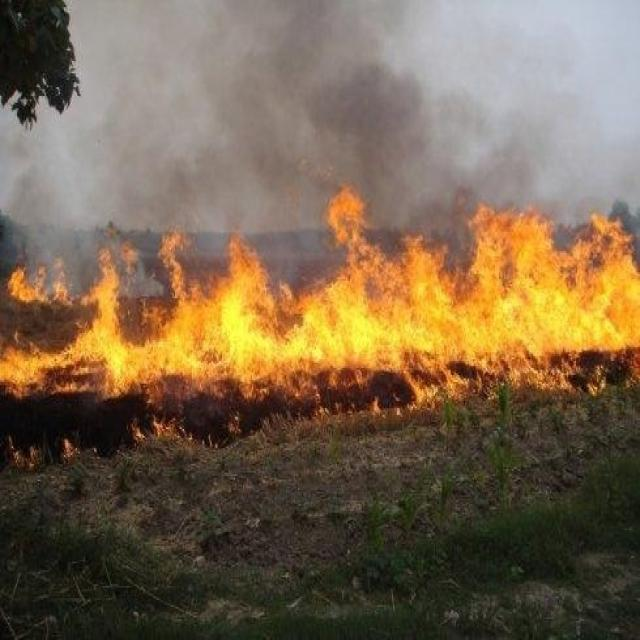Fire: (0, 184, 640, 466)
Smoke: (8, 2, 640, 190)
